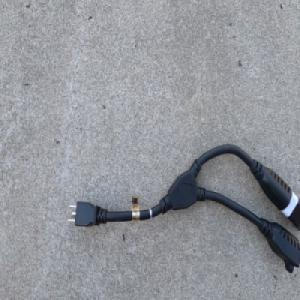Wire: (65, 143, 300, 273)
